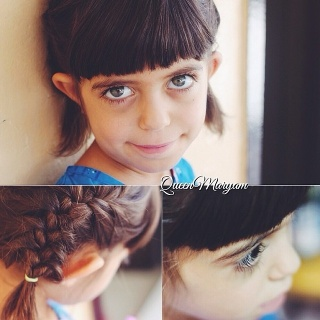without_mask: (163, 214, 302, 320), (80, 57, 207, 172)
